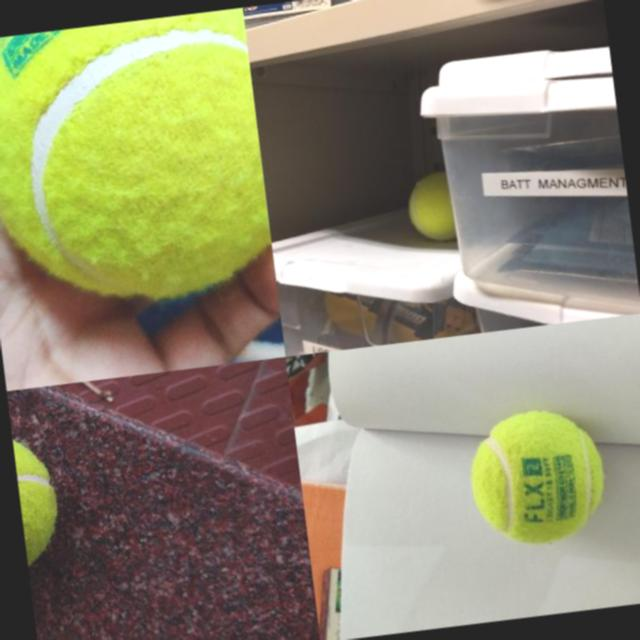tennis-ball: (0, 7, 274, 314), (463, 402, 611, 550), (11, 423, 65, 576), (403, 170, 454, 246)
